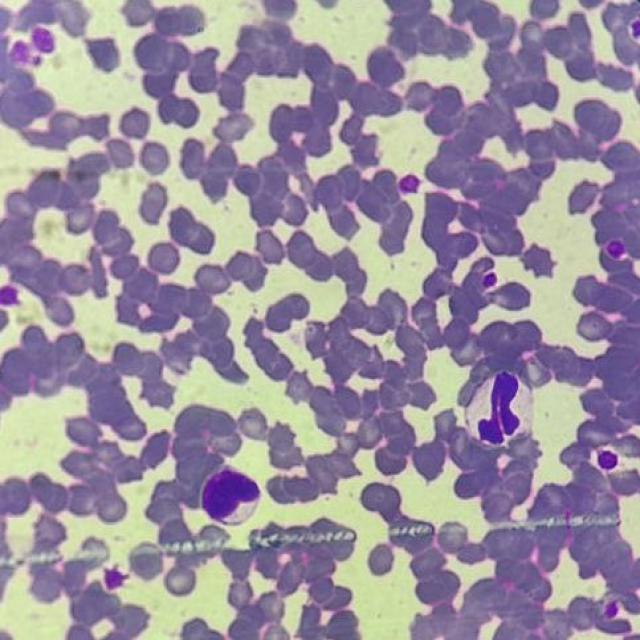Neutrofilo: (469, 367, 538, 448), (199, 463, 265, 528)
